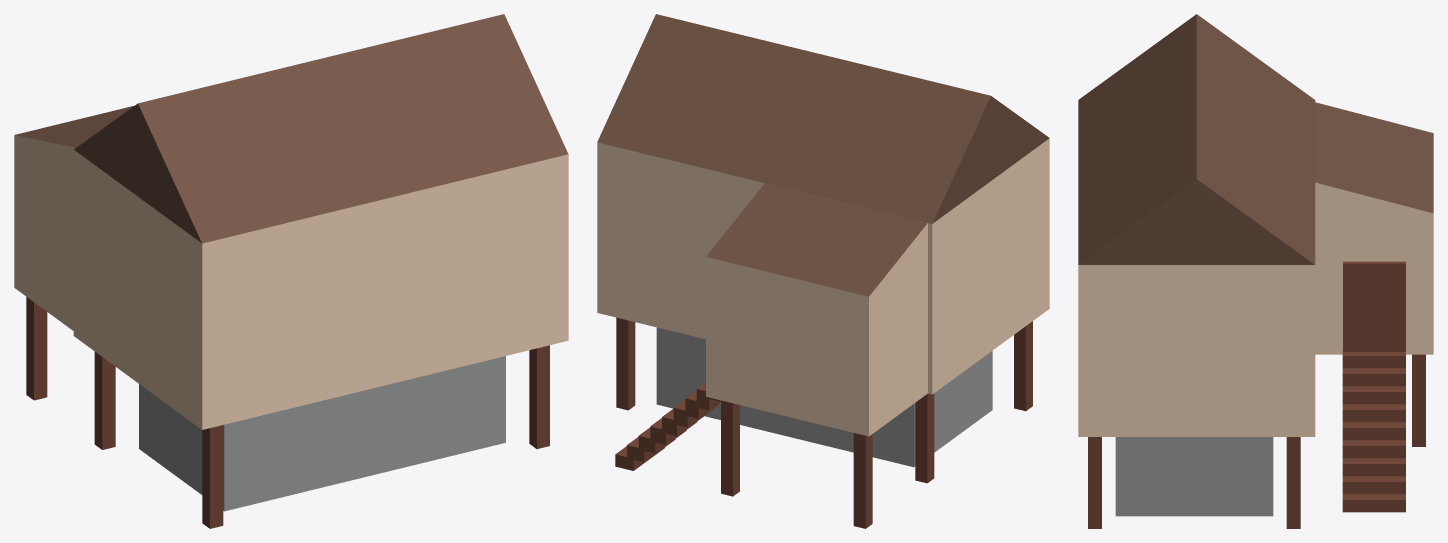
Rendered from houseC.fbx.
The picture shows the model from 3 angles, left to right: view 1: azimuth 30°, elevation 25°; view 2: azimuth 150°, elevation 25°; view 3: azimuth 270°, elevation 25°; orthographic projection. The views are drawn at different scales.
Visible parts, largest first — view 1: House C; view 2: House C; view 3: House C.
Boxes of the visible parts, box(x1,y1,x2,y2) form: House C: box(14, 14, 568, 528); House C: box(597, 14, 1049, 528); House C: box(1078, 14, 1433, 528).
Bounding box in the file's own units: 576 × 593 × 524.
Materials: 1 (1 with a texture image).
